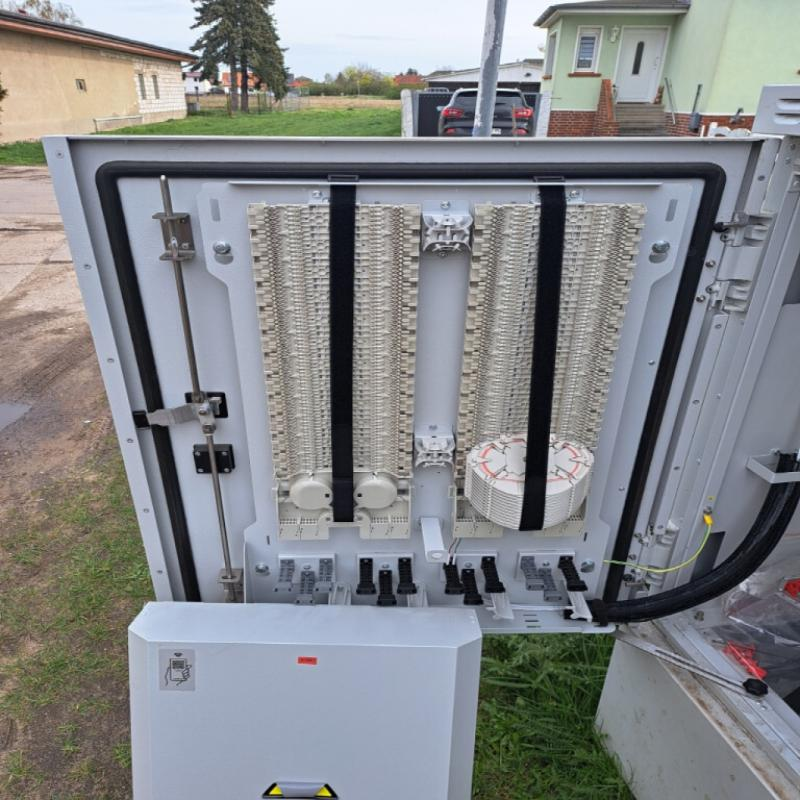NT-Gehause: (38, 86, 800, 800)
Spleiskassetten: (246, 204, 420, 544), (471, 205, 635, 551)
